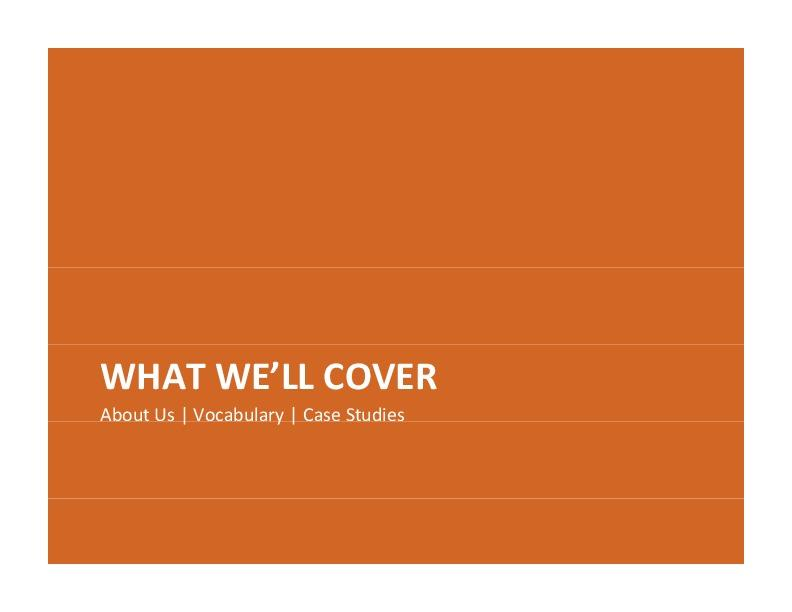title: (103, 350, 453, 401)
